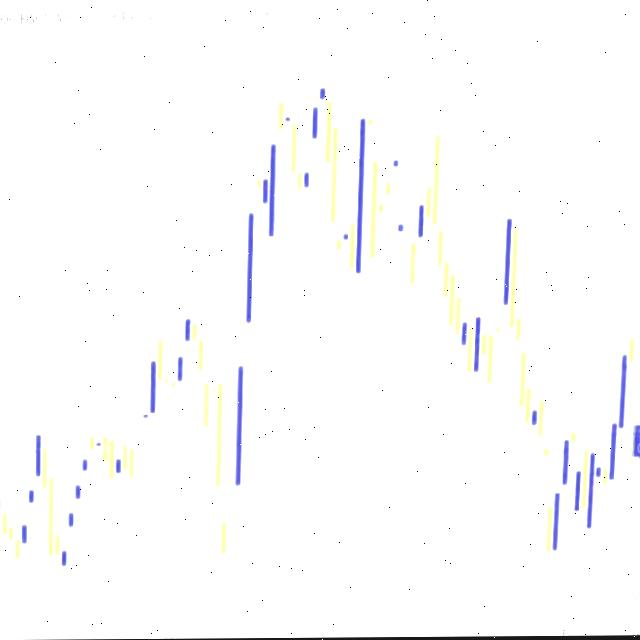Gap Down: (196, 341, 210, 424)
Gap Up: (235, 212, 254, 483), (552, 443, 568, 552), (306, 110, 318, 188)
